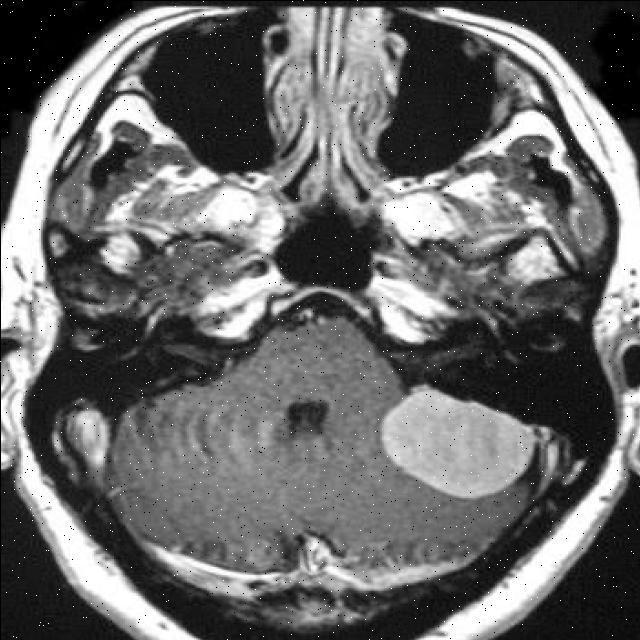Meningioma: (382, 386, 538, 499)
